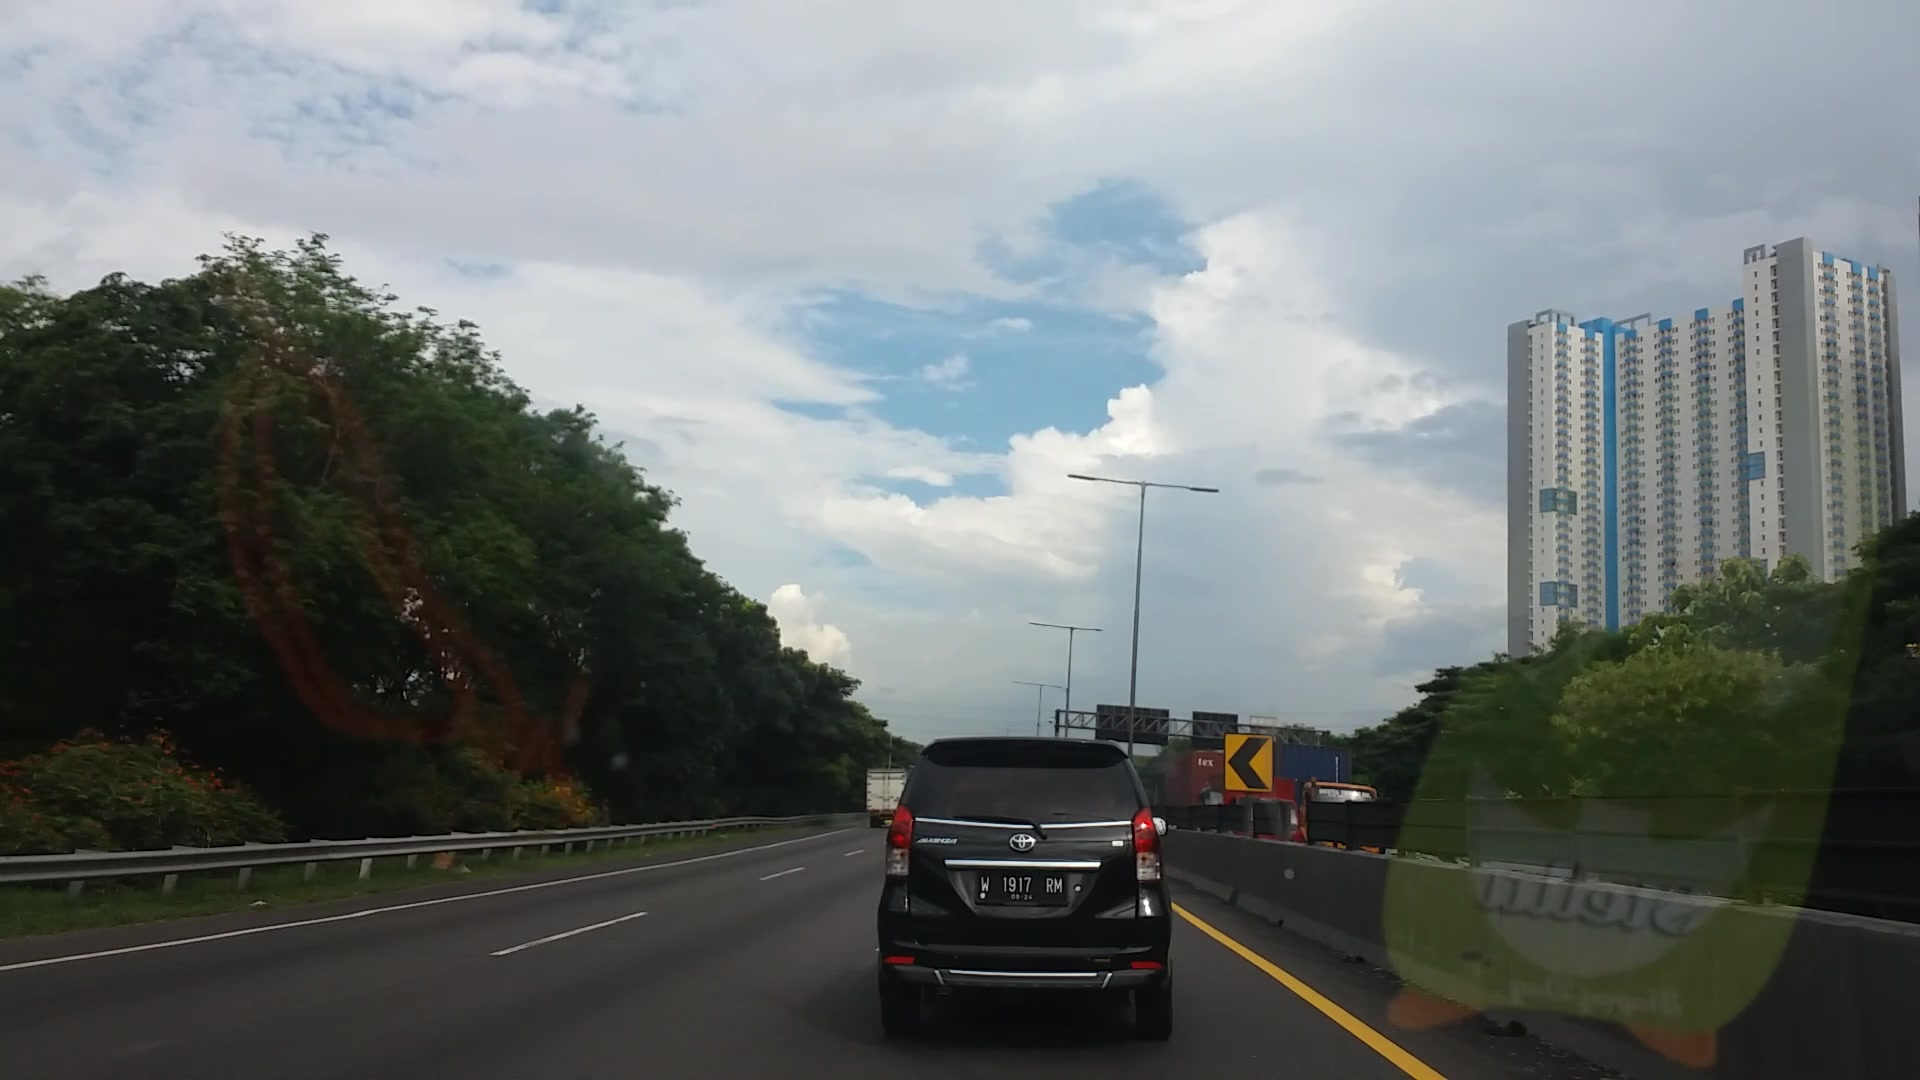plate_positive: (977, 872, 1065, 903)
